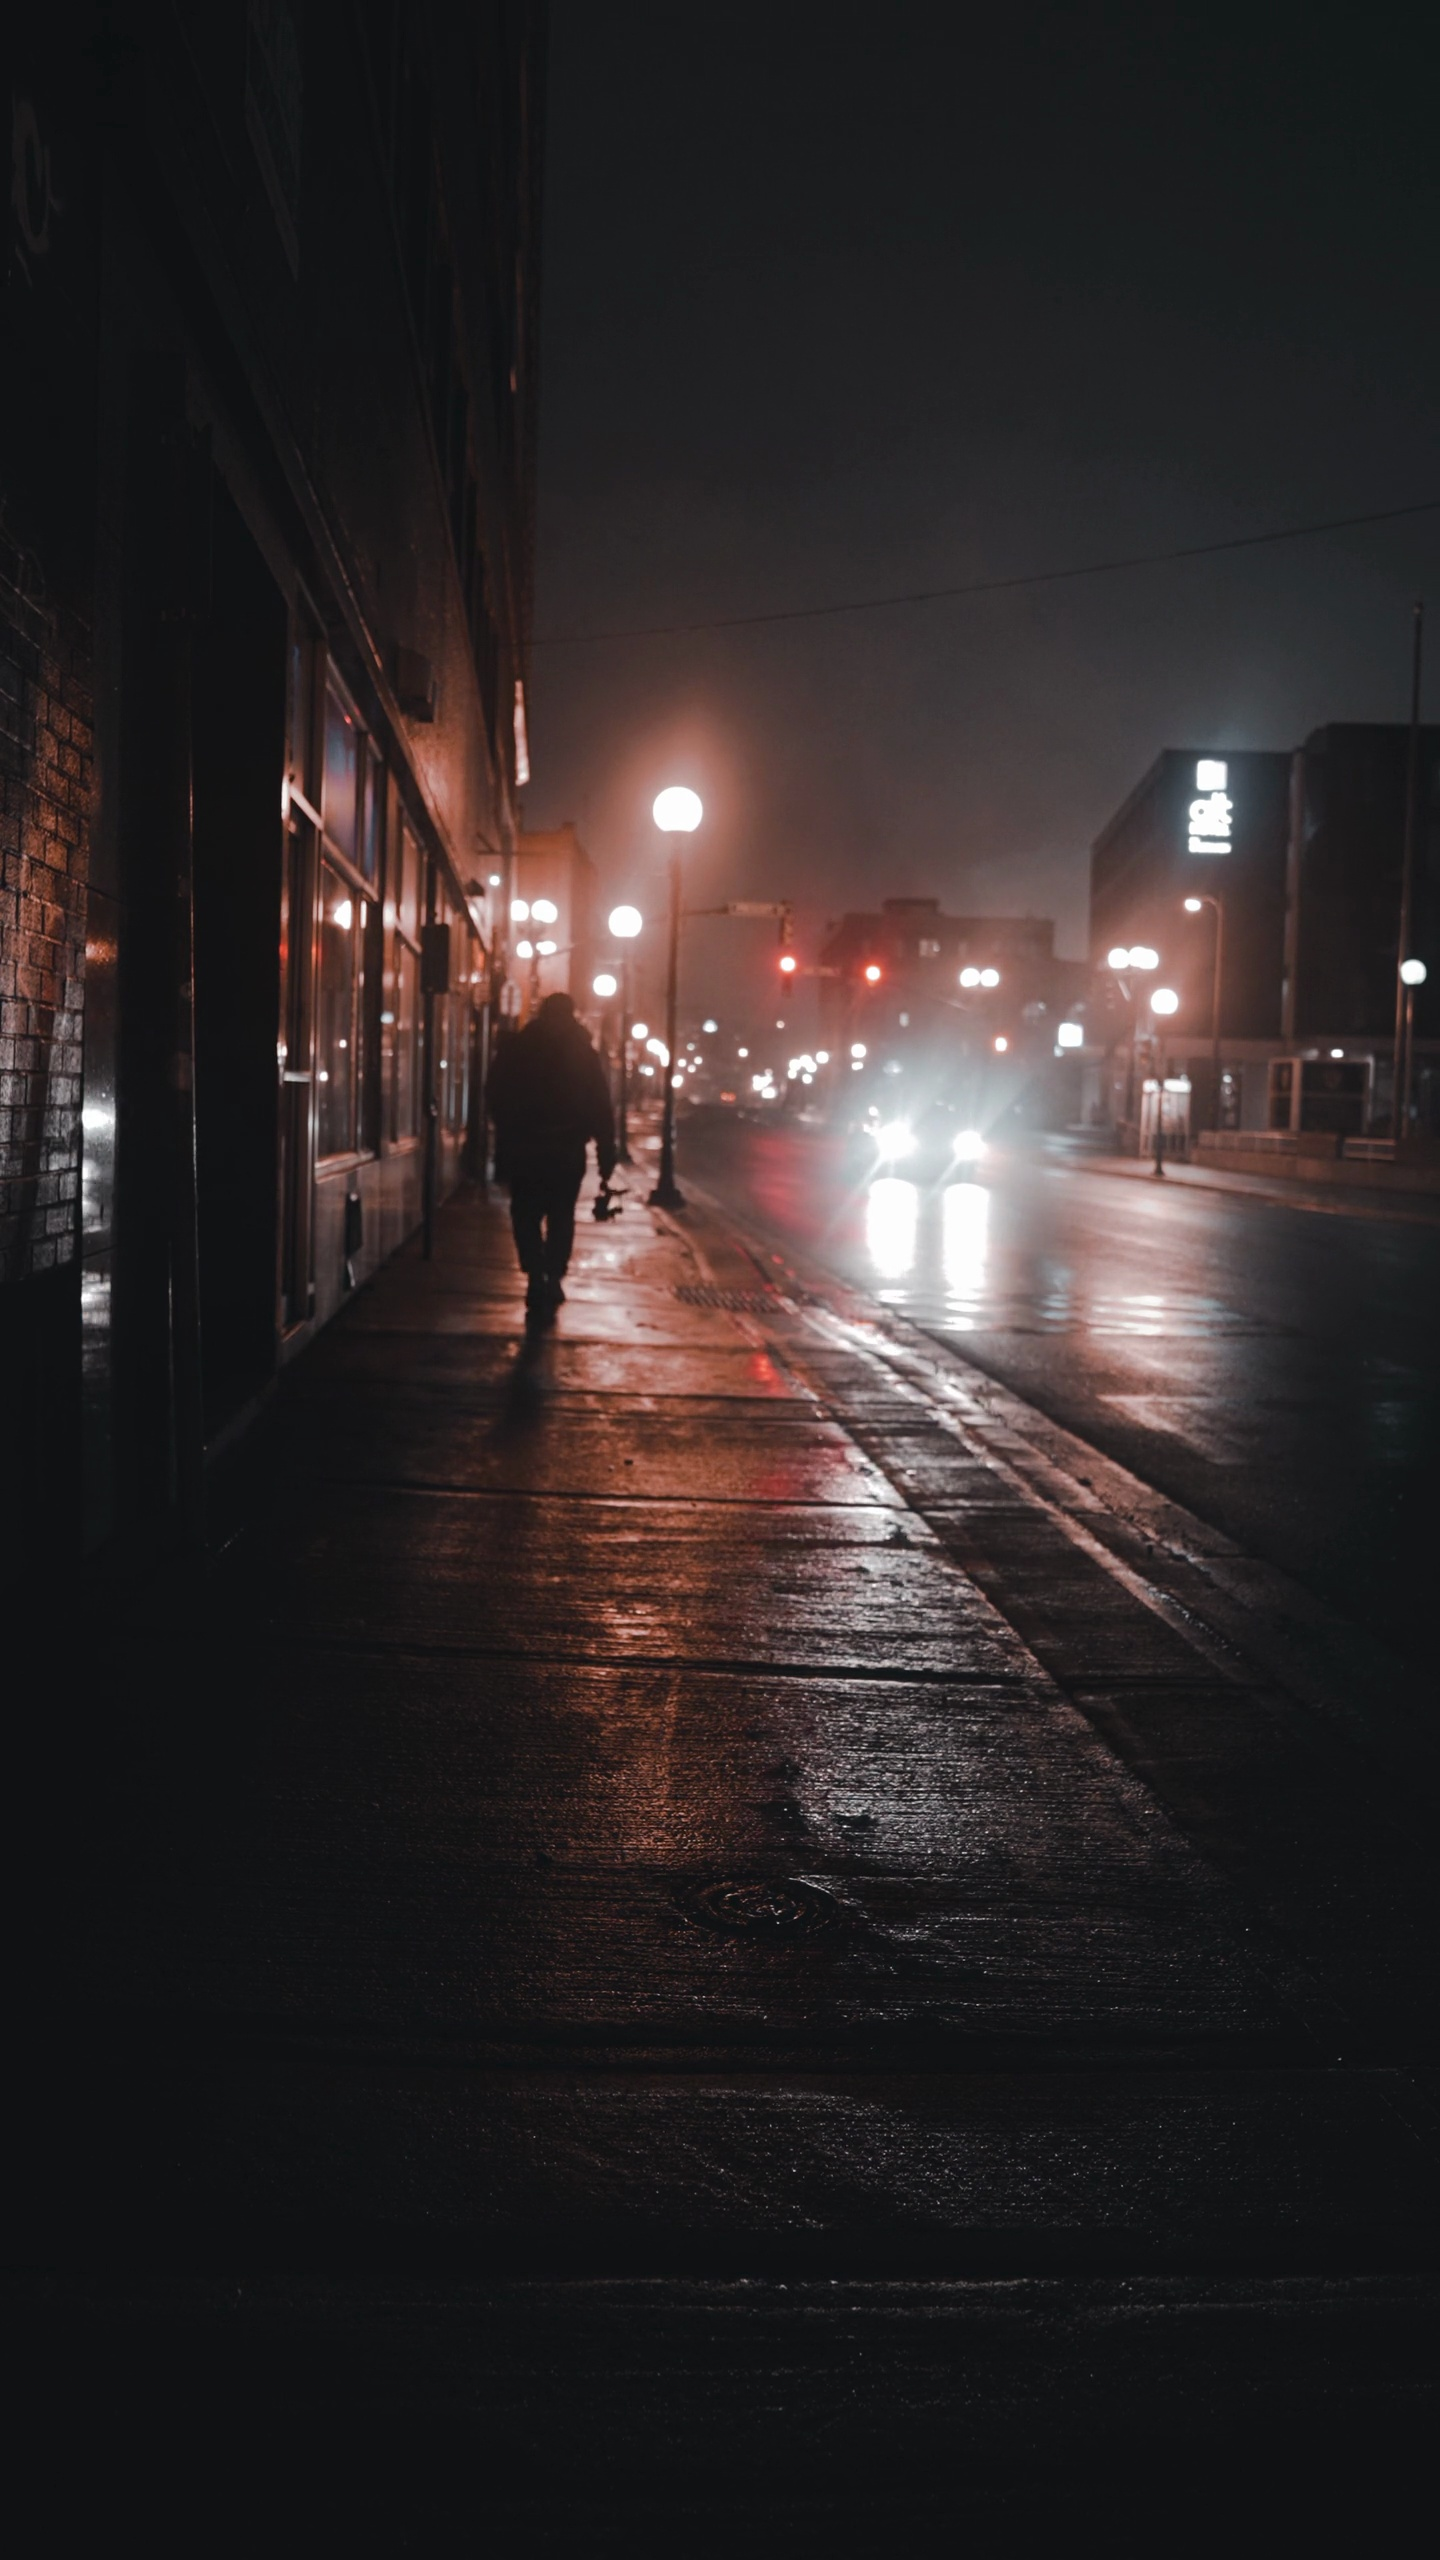person: (477, 1000, 633, 1312)
